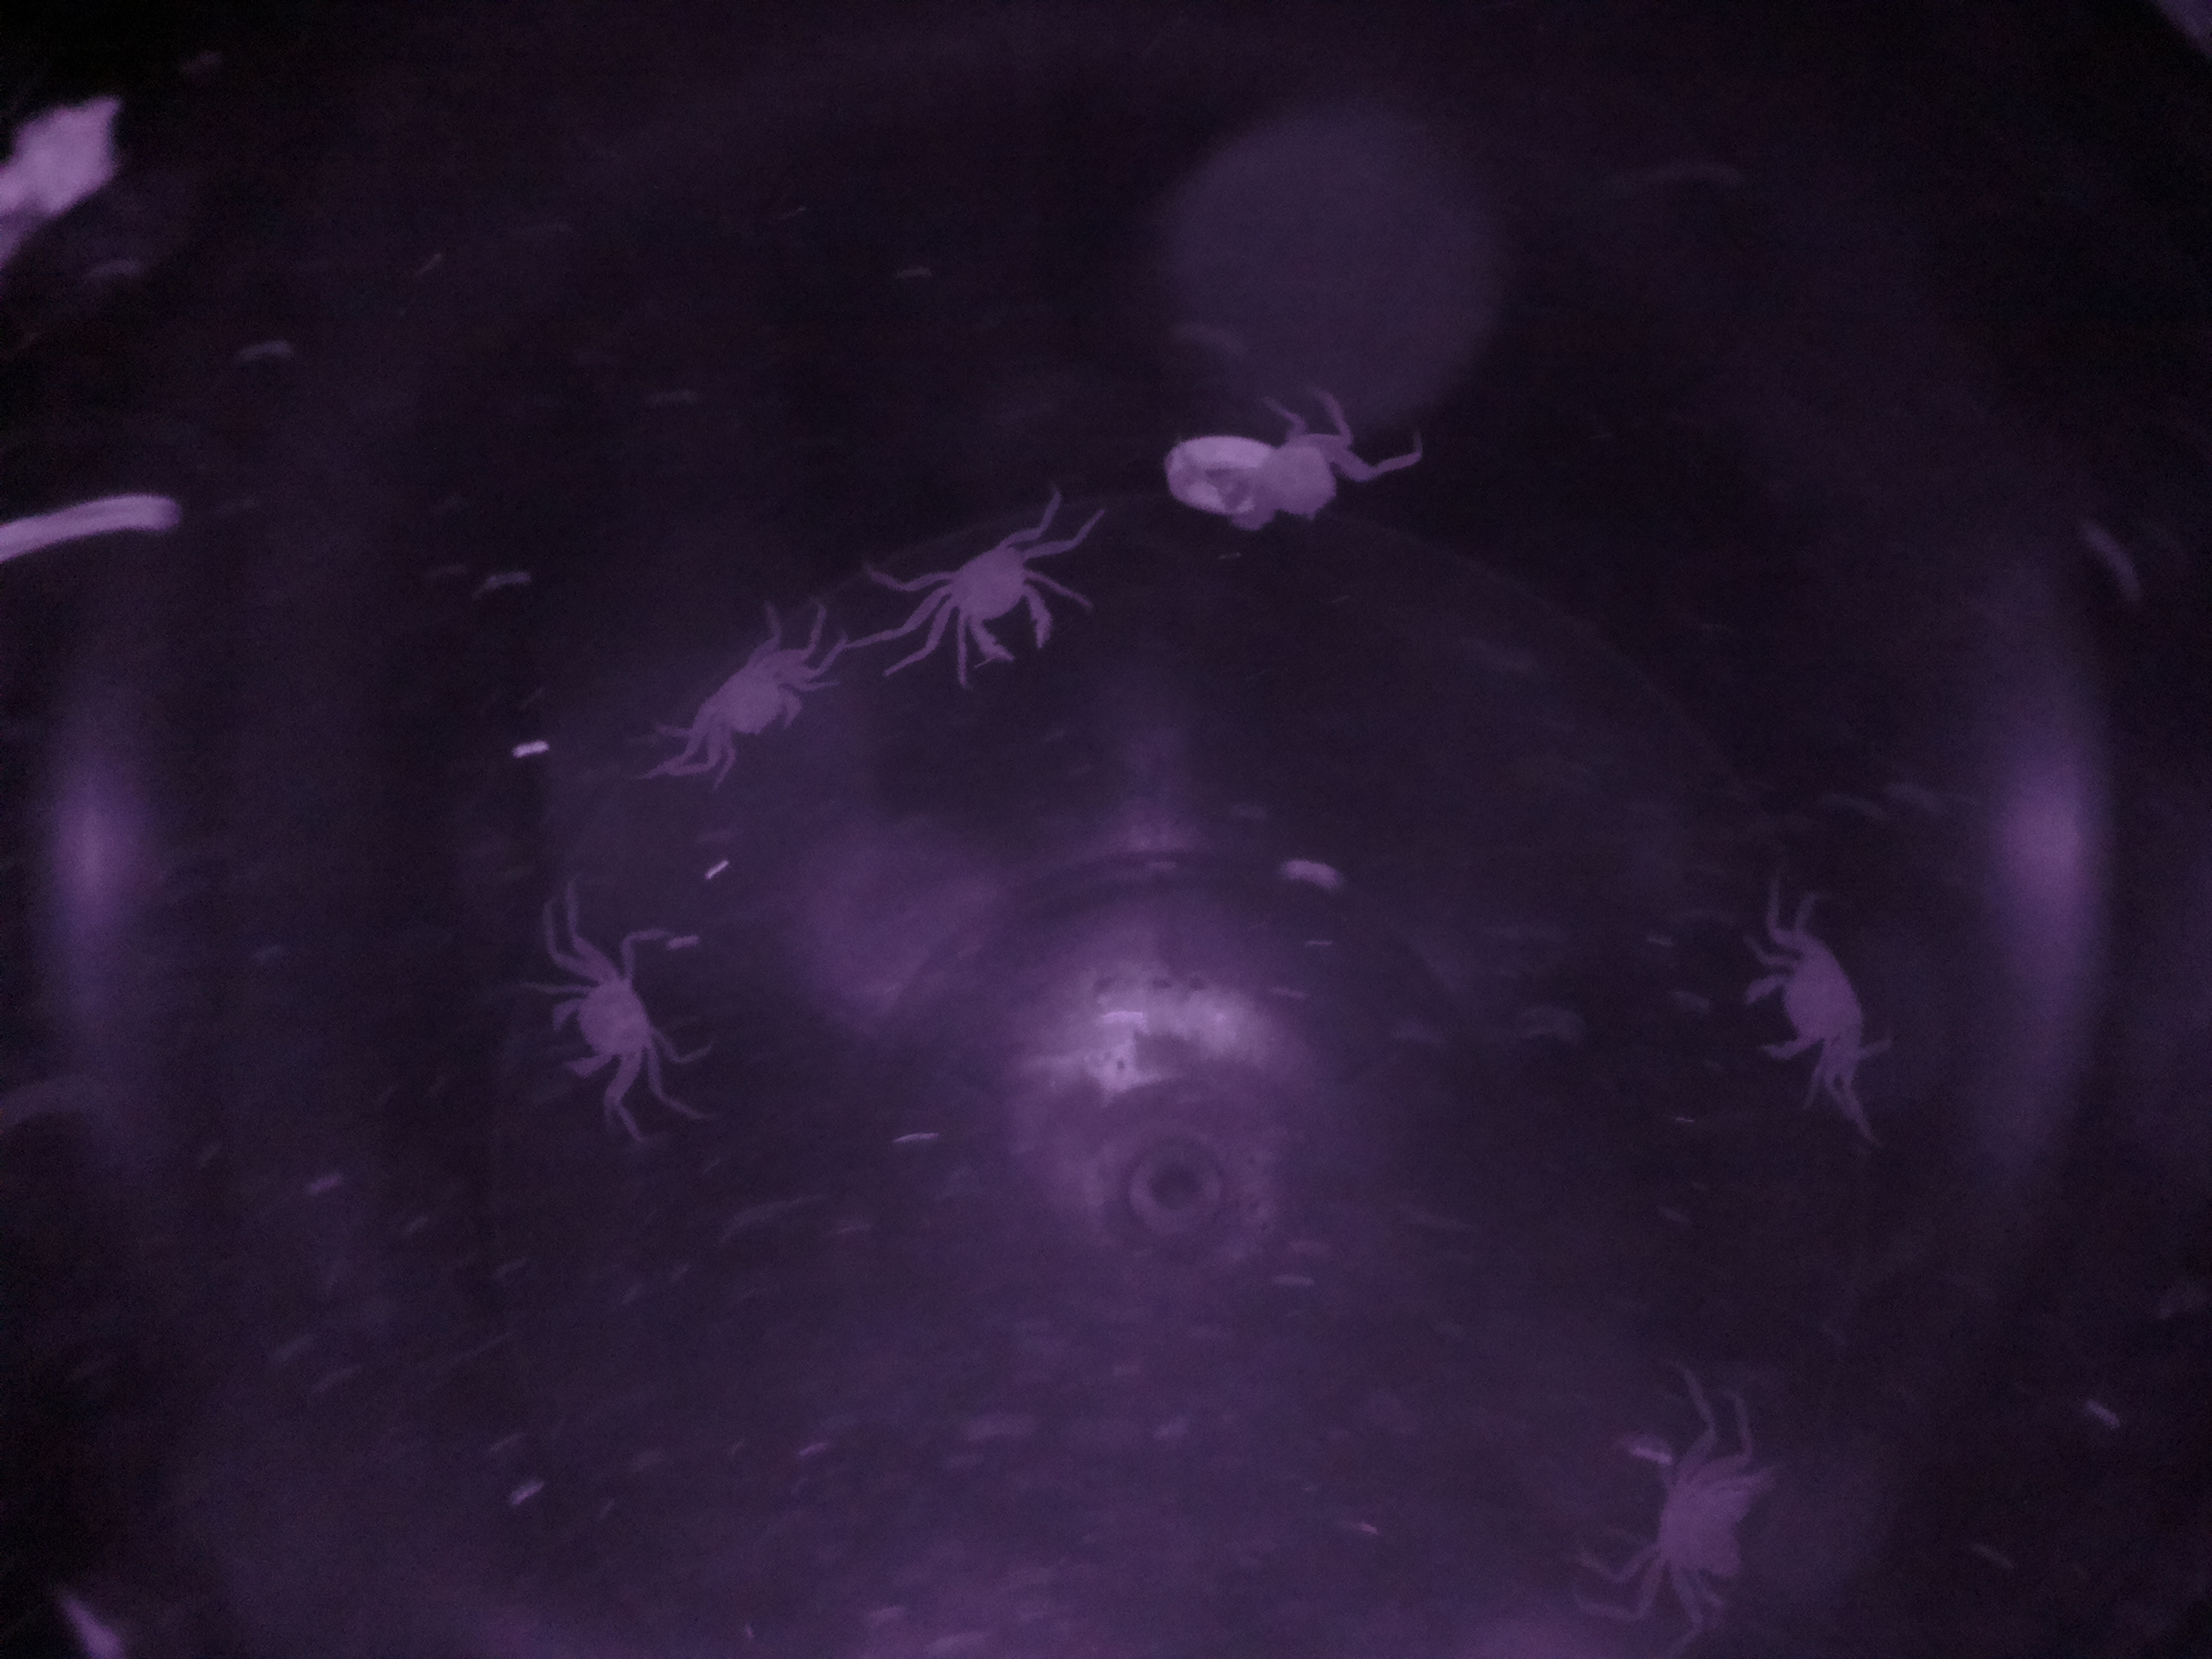Crab: (1702, 882, 1895, 1108), (662, 589, 838, 795), (521, 922, 697, 1119), (894, 500, 1069, 688)
